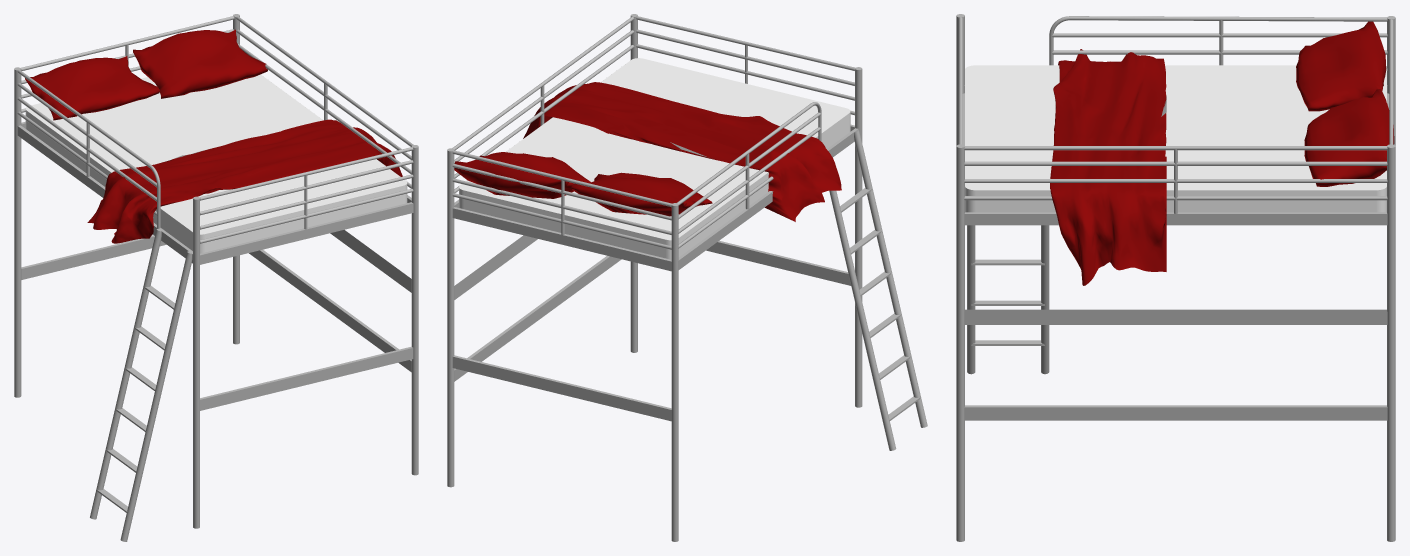
3 views of the same model, side by side, from view 1: azimuth 30°, elevation 25°; view 2: azimuth 150°, elevation 25°; view 3: azimuth 270°, elevation 25° (orthographic). The views are drawn at different scales.
Visible parts, largest first — view 1: Mesh23 Matratze1 Model, Mesh2 blanket Model, Mesh10 Bett1 Model, Mesh6 Bett1 Model, Mesh5 pillow01 Model, Mesh1 pillow Model, Mesh8 Bett1 Model, Mesh13 Bett1 Model, Mesh11 Bett1 Model, Mesh21 Bett1 Model, Mesh9 Bett1 Model, Mesh7 Bett1 Model (+3 smaller); view 2: Mesh23 Matratze1 Model, Mesh2 blanket Model, Mesh10 Bett1 Model, Mesh6 Bett1 Model, Mesh5 pillow01 Model, Mesh21 Bett1 Model, Mesh1 pillow Model, Mesh7 Bett1 Model, Mesh11 Bett1 Model, Mesh12 Bett1 Model, Mesh9 Bett1 Model, Mesh8 Bett1 Model (+3 smaller); view 3: Mesh23 Matratze1 Model, Mesh2 blanket Model, Mesh6 Bett1 Model, Mesh10 Bett1 Model, Mesh9 Bett1 Model, Mesh20 Bett1 Model, Mesh1 pillow Model, Mesh5 pillow01 Model, Mesh12 Bett1 Model, Mesh13 Bett1 Model, Mesh21 Bett1 Model, Mesh22 Bett1 Model (+1 smaller).
Part boxes in pixels (x1,y1,x2,y2): Mesh23 Matratze1 Model: [25, 74, 407, 253]; Mesh2 blanket Model: [87, 119, 402, 243]; Mesh10 Bett1 Model: [17, 45, 413, 541]; Mesh6 Bett1 Model: [17, 16, 413, 528]; Mesh5 pillow01 Model: [133, 29, 267, 98]; Mesh1 pillow Model: [25, 56, 159, 120]; Mesh8 Bett1 Model: [200, 346, 413, 410]; Mesh13 Bett1 Model: [411, 145, 418, 475]; Mesh11 Bett1 Model: [14, 67, 21, 397]; Mesh21 Bett1 Model: [17, 44, 413, 229]; Mesh9 Bett1 Model: [249, 249, 411, 372]; Mesh7 Bett1 Model: [21, 235, 166, 279]; Mesh23 Matratze1 Model: [459, 58, 850, 259]; Mesh2 blanket Model: [523, 82, 841, 221]; Mesh10 Bett1 Model: [452, 45, 927, 450]; Mesh6 Bett1 Model: [452, 16, 862, 407]; Mesh5 pillow01 Model: [454, 152, 590, 198]; Mesh21 Bett1 Model: [452, 44, 854, 234]; Mesh1 pillow Model: [571, 172, 712, 216]; Mesh7 Bett1 Model: [452, 355, 671, 421]; Mesh11 Bett1 Model: [671, 203, 678, 541]; Mesh12 Bett1 Model: [447, 148, 454, 487]; Mesh9 Bett1 Model: [454, 255, 621, 381]; Mesh8 Bett1 Model: [706, 240, 851, 285]; Mesh23 Matratze1 Model: [965, 65, 1386, 212]; Mesh2 blanket Model: [1050, 49, 1166, 285]; Mesh6 Bett1 Model: [956, 14, 1393, 165]; Mesh10 Bett1 Model: [962, 20, 1389, 374]; Mesh9 Bett1 Model: [964, 405, 1387, 420]; Mesh20 Bett1 Model: [964, 309, 1387, 324]; Mesh1 pillow Model: [1296, 21, 1386, 111]; Mesh5 pillow01 Model: [1304, 89, 1394, 186]; Mesh12 Bett1 Model: [1387, 144, 1395, 541]; Mesh13 Bett1 Model: [956, 144, 964, 541]; Mesh21 Bett1 Model: [964, 50, 1387, 182]; Mesh22 Bett1 Model: [964, 67, 1387, 200].
Size of the model in its own units: 220 by 209 by 208.
